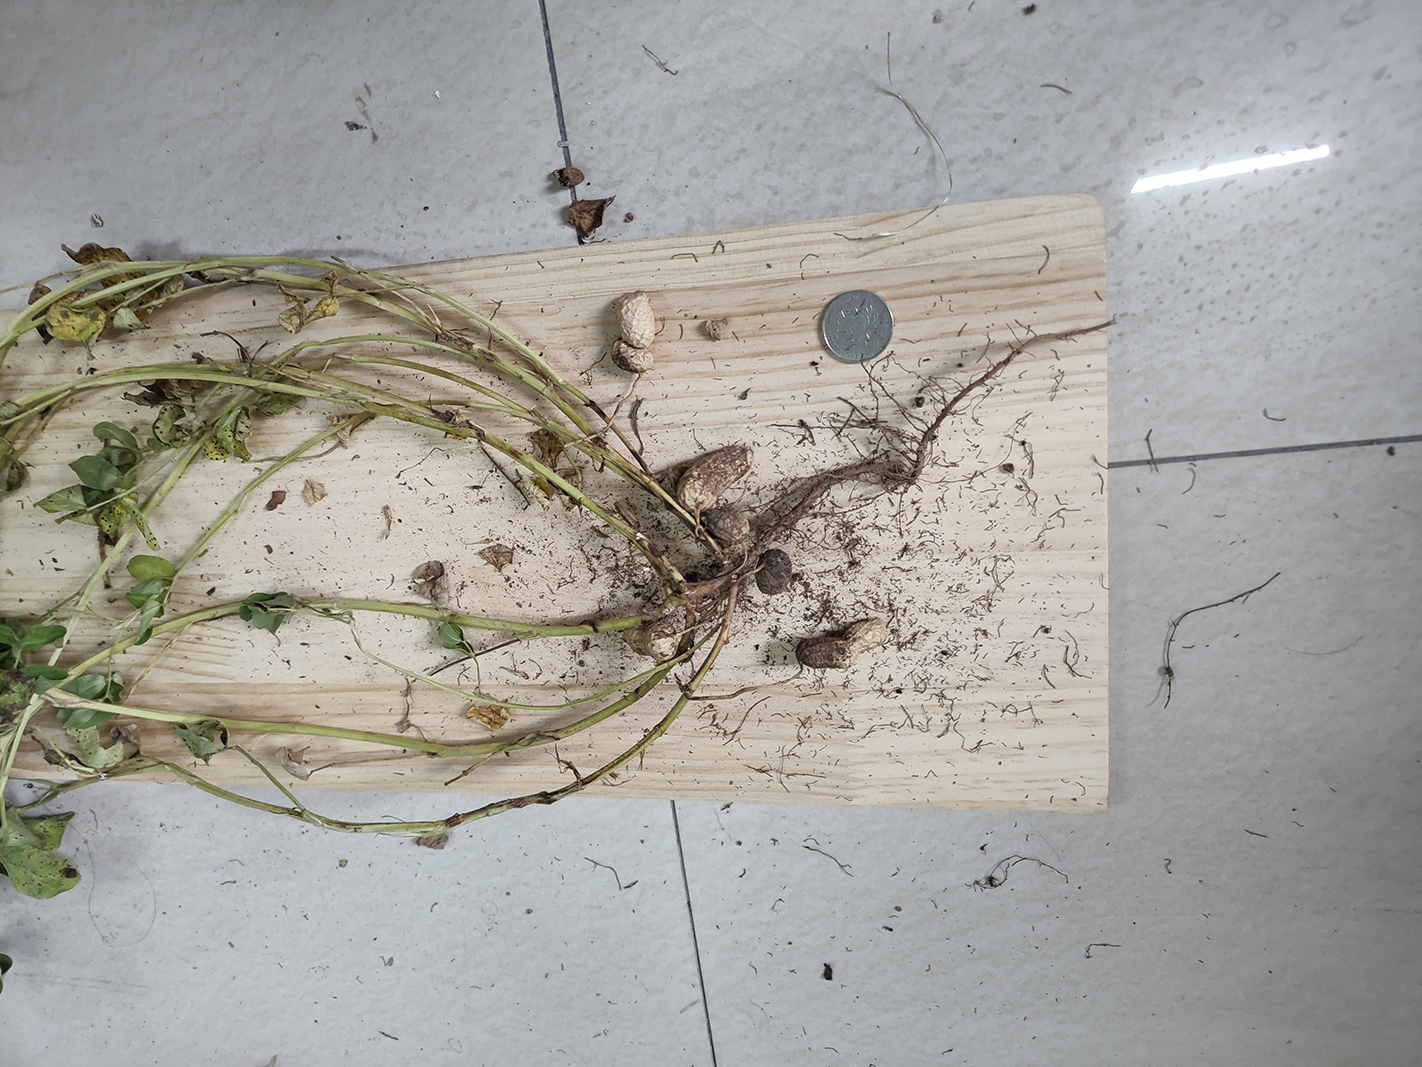h: (608, 289, 656, 374), (625, 622, 680, 662)
l: (679, 444, 750, 507), (755, 549, 793, 596), (703, 508, 752, 541)
